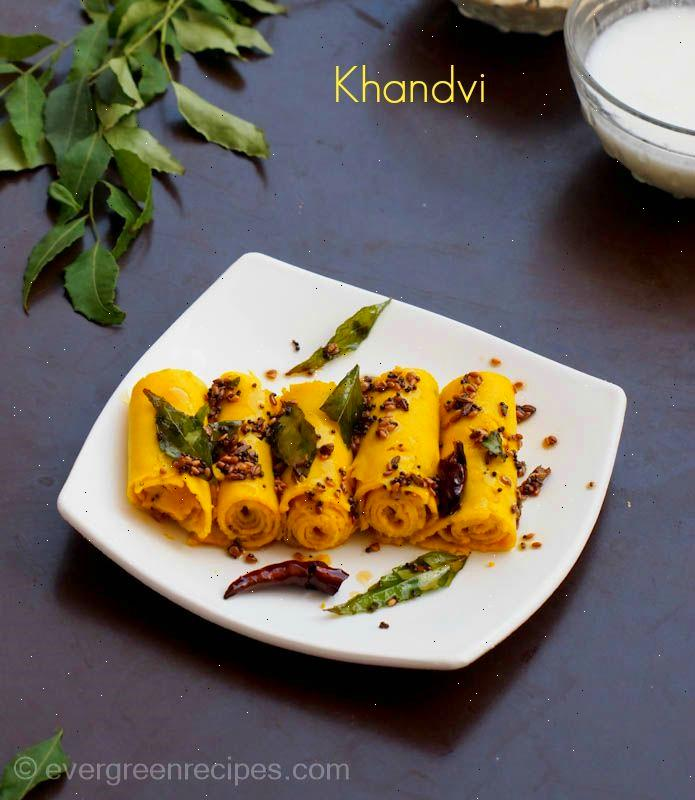khandvi: (124, 362, 538, 572)
